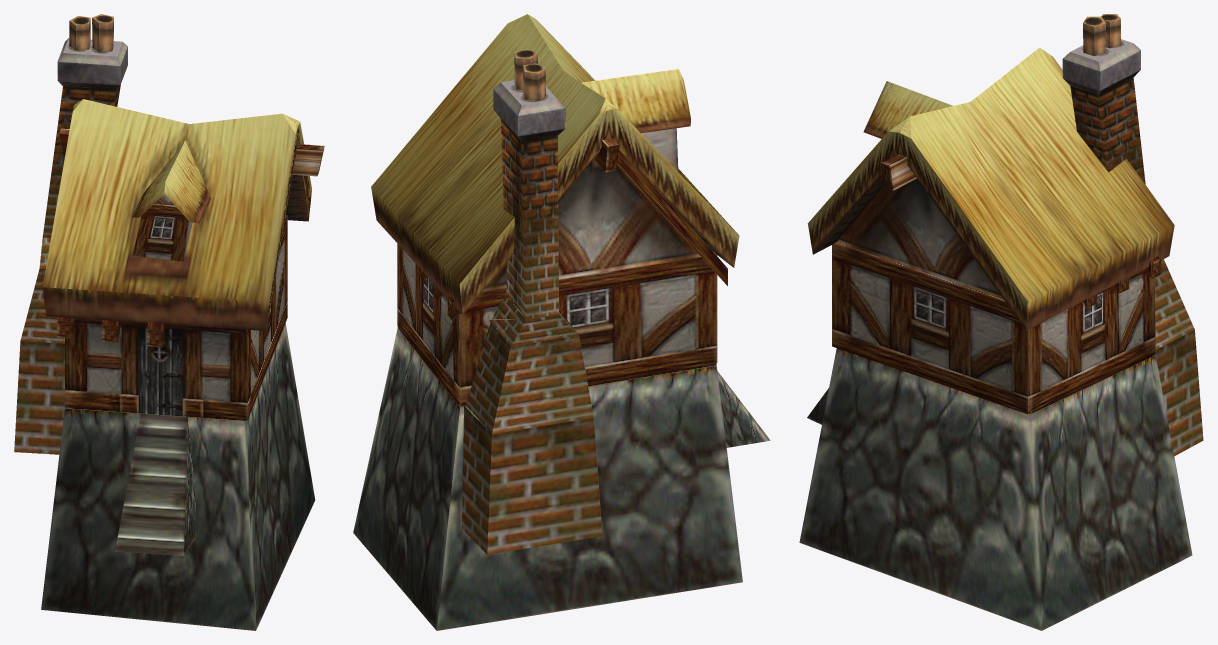
The model's file is Farm.dae.
The picture shows the model from 3 angles, left to right: view 1: azimuth 30°, elevation 25°; view 2: azimuth 150°, elevation 25°; view 3: azimuth 270°, elevation 25°; orthographic projection. The views are drawn at different scales.
Visible parts, largest first — view 1: Mesh02, Mesh04, Mesh01; view 2: Mesh02, Mesh01, Mesh04; view 3: Mesh02, Mesh04, Mesh01, Mesh03.
Boxes of the visible parts, left/top/right/bottom form: Mesh02: left=20, top=81, right=315, bottom=630; Mesh04: left=57, top=128, right=324, bottom=421; Mesh01: left=14, top=14, right=127, bottom=454; Mesh02: left=353, top=14, right=770, bottom=630; Mesh01: left=462, top=49, right=602, bottom=537; Mesh04: left=397, top=138, right=727, bottom=362; Mesh02: left=799, top=48, right=1203, bottom=630; Mesh04: left=832, top=154, right=1161, bottom=414; Mesh01: left=1062, top=14, right=1194, bottom=413; Mesh03: left=1062, top=51, right=1139, bottom=90.
Size of the model in its own units: 153 by 234 by 165.
Materials: 2 (2 with a texture image).
